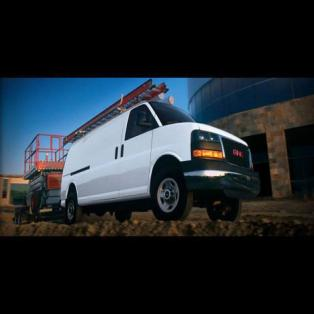Auto: (59, 98, 262, 225)
